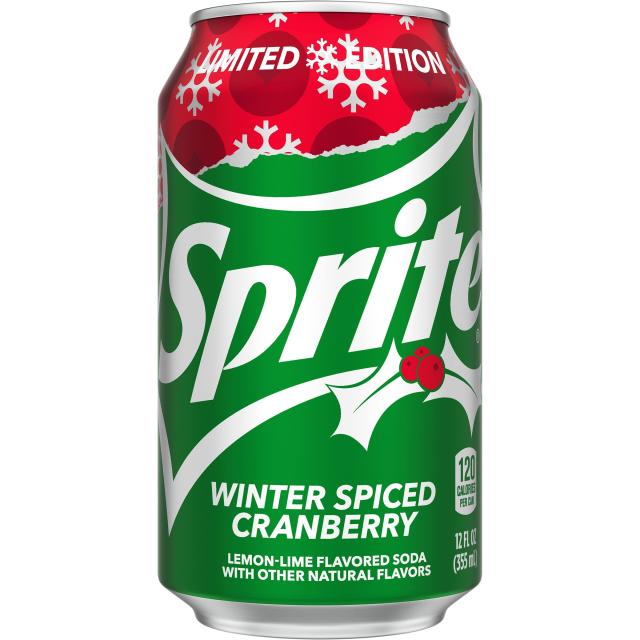sprite: (120, 0, 495, 640)
